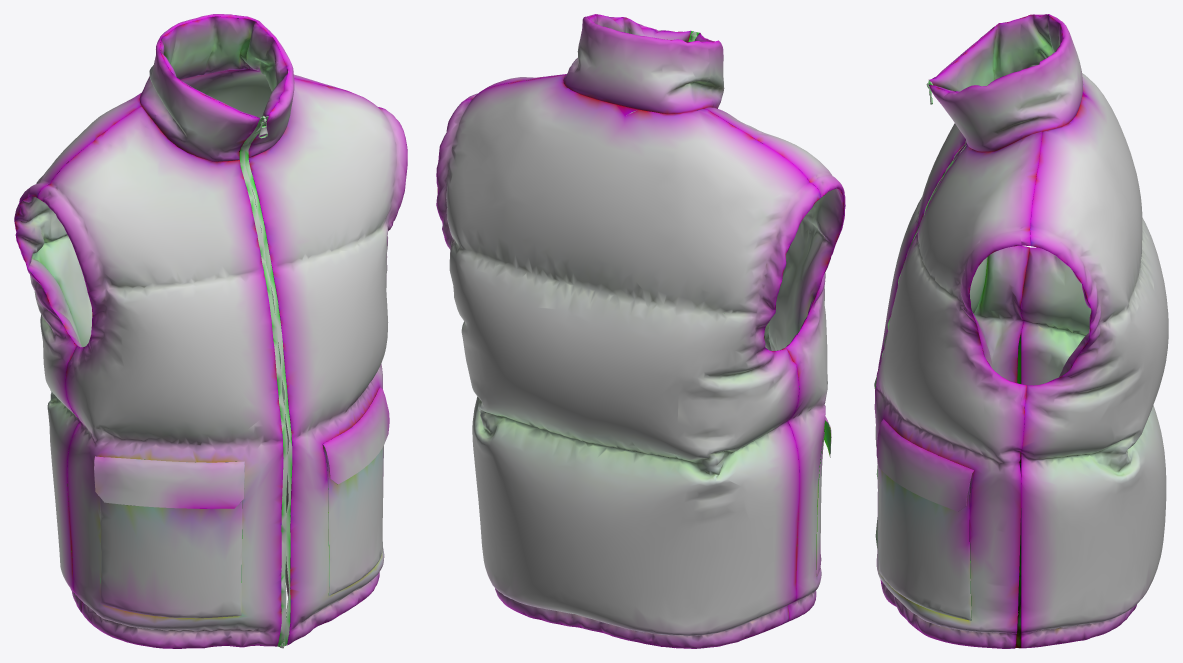
The model's file is puffervest.glb.
The picture shows the model from 3 angles, left to right: view 1: azimuth 30°, elevation 25°; view 2: azimuth 150°, elevation 25°; view 3: azimuth 270°, elevation 25°; orthographic projection. The views are drawn at different scales.
Parts seen in each view (by area): view 1: front, back, zipper; view 2: back, front; view 3: front, back, zipper.
Part boxes in pixels (left/top/right/bottom): front: left=38, top=14, right=407, bottom=648; back: left=14, top=16, right=383, bottom=612; zipper: left=239, top=116, right=292, bottom=648; back: left=436, top=17, right=825, bottom=648; front: left=465, top=14, right=845, bottom=621; front: left=874, top=14, right=1083, bottom=648; back: left=1021, top=14, right=1168, bottom=648; zipper: left=874, top=80, right=966, bottom=548.
Size of the model in its own units: 0.4808 by 0.74 by 0.3501.
